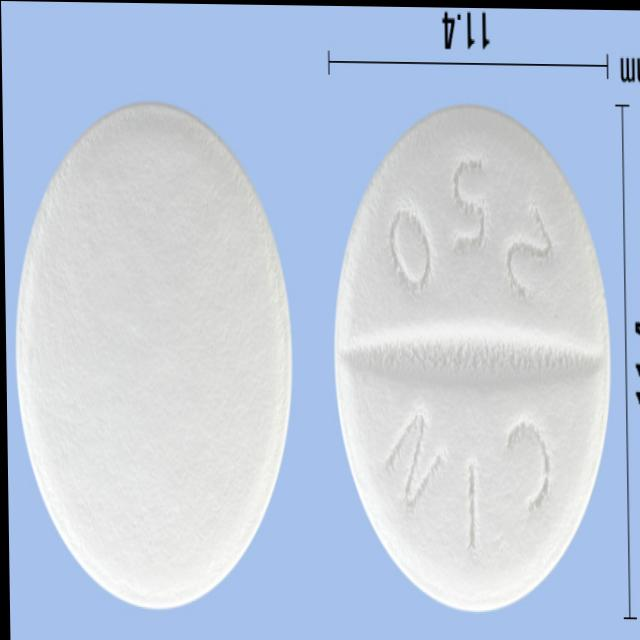Amoclan - Myungmoon: (328, 101, 612, 614), (10, 99, 294, 612)
